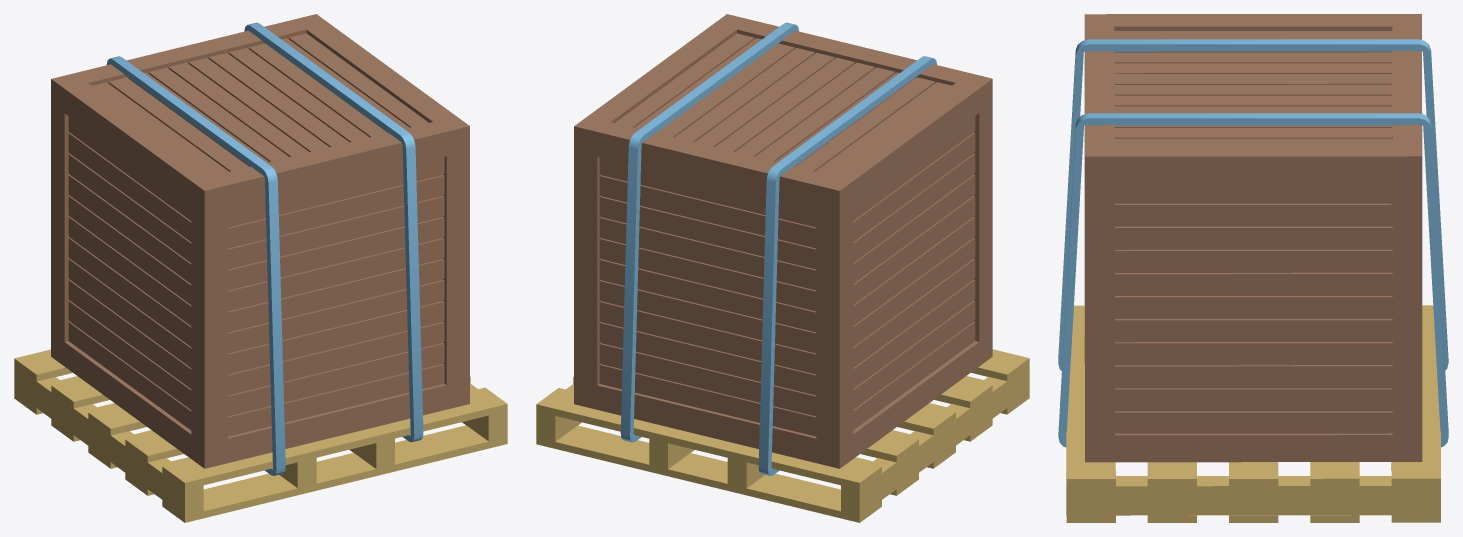
File: Pallette Box.fbx
The picture shows the model from 3 angles, left to right: view 1: azimuth 30°, elevation 25°; view 2: azimuth 150°, elevation 25°; view 3: azimuth 270°, elevation 25°; orthographic projection. The views are drawn at different scales.
Parts seen in each view (by area): view 1: Props; view 2: Props; view 3: Props.
Part boxes in pixels (<box>): Props: <box>14,14,507,522</box>; Props: <box>536,14,1029,522</box>; Props: <box>1058,14,1448,522</box>.
Size of the model in its own units: 47.75 by 45.84 by 45.39.
